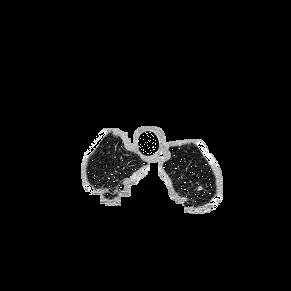PN: (196, 186, 202, 192)
